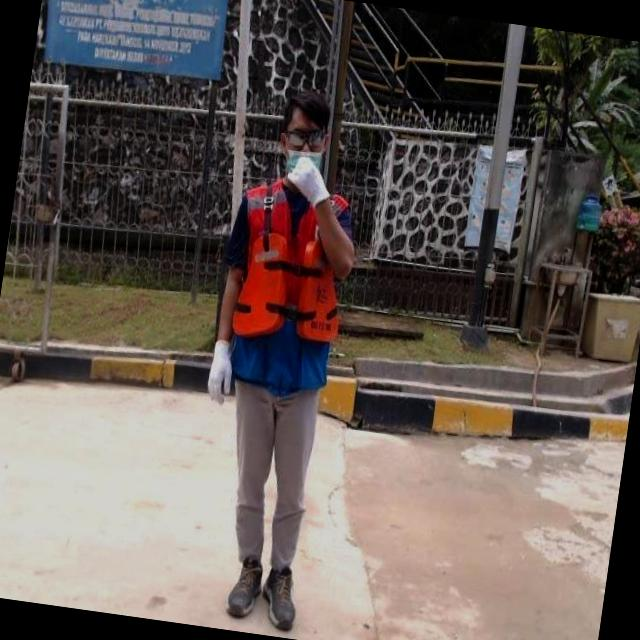vest: (227, 194, 358, 367)
